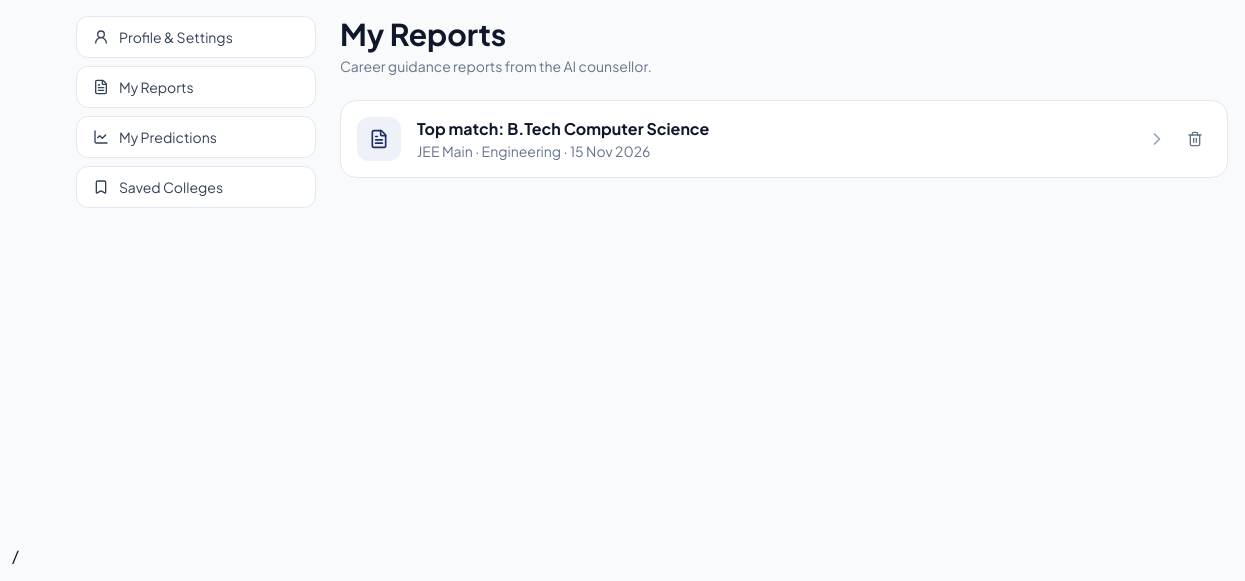
Test: My Reports › lists reports with their top recommendation and deletes them
Expected: the text "JEE Main · Engineering · 15 Nov 2026" is shown, [417,142,650,160]
Click the button named "Delete report" at (1195,139), box [1179,123,1211,155]
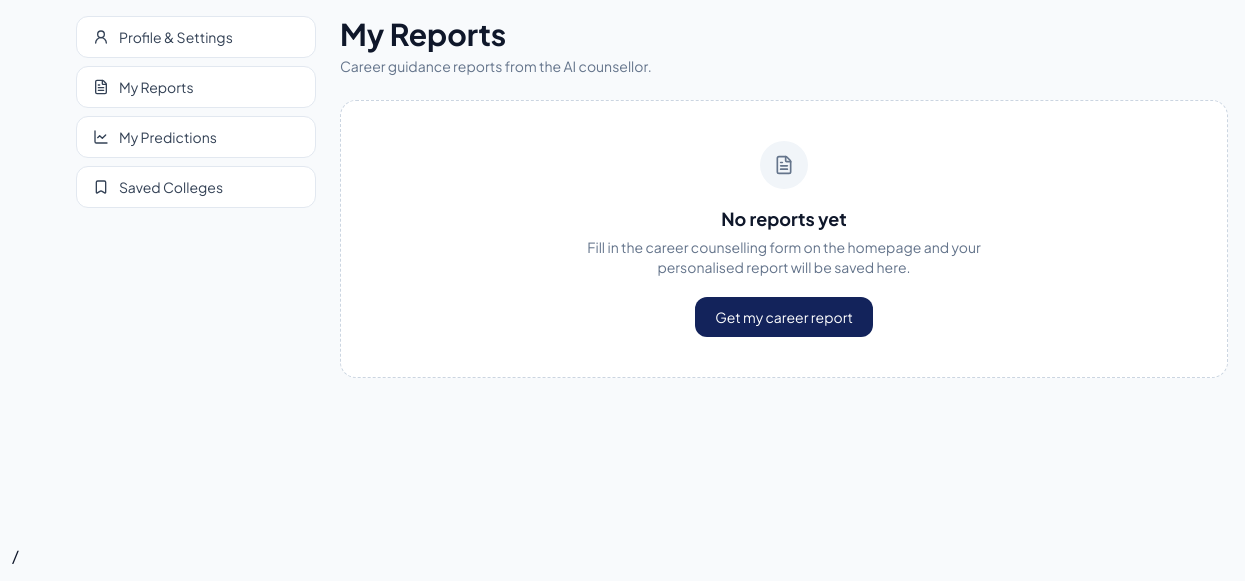
Expected: the heading "No reports yet" is shown, [721,207,847,230]
